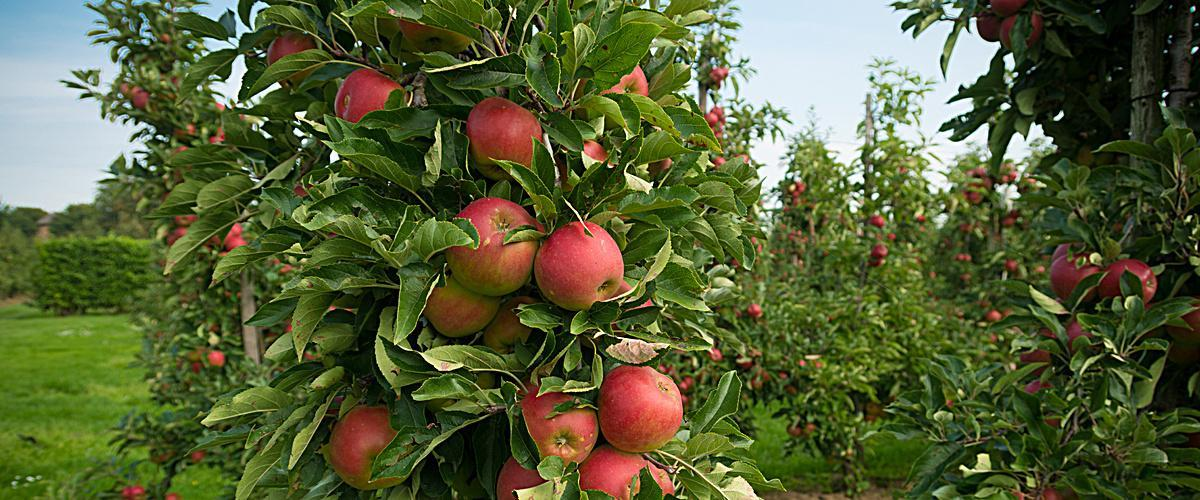apple: (447, 195, 536, 294), (536, 218, 624, 310), (594, 362, 684, 449), (327, 402, 417, 489), (515, 385, 597, 464), (466, 94, 542, 179), (333, 67, 409, 127), (1100, 259, 1156, 307), (595, 61, 648, 101)
